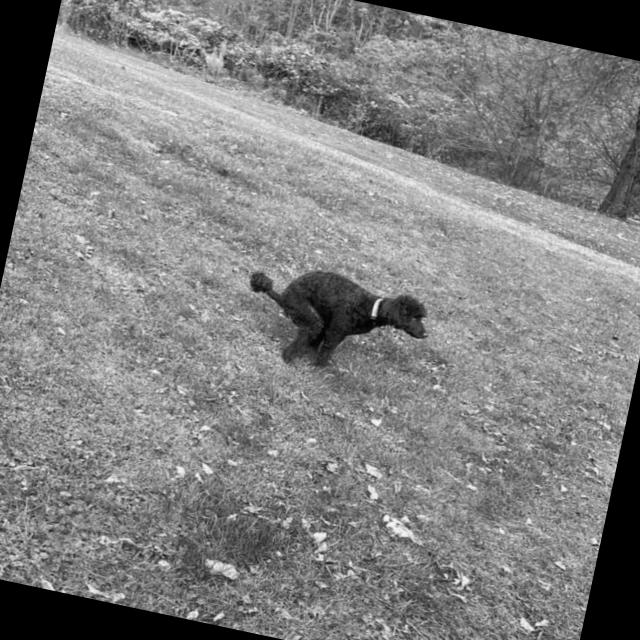squatting: (232, 251, 440, 394)
